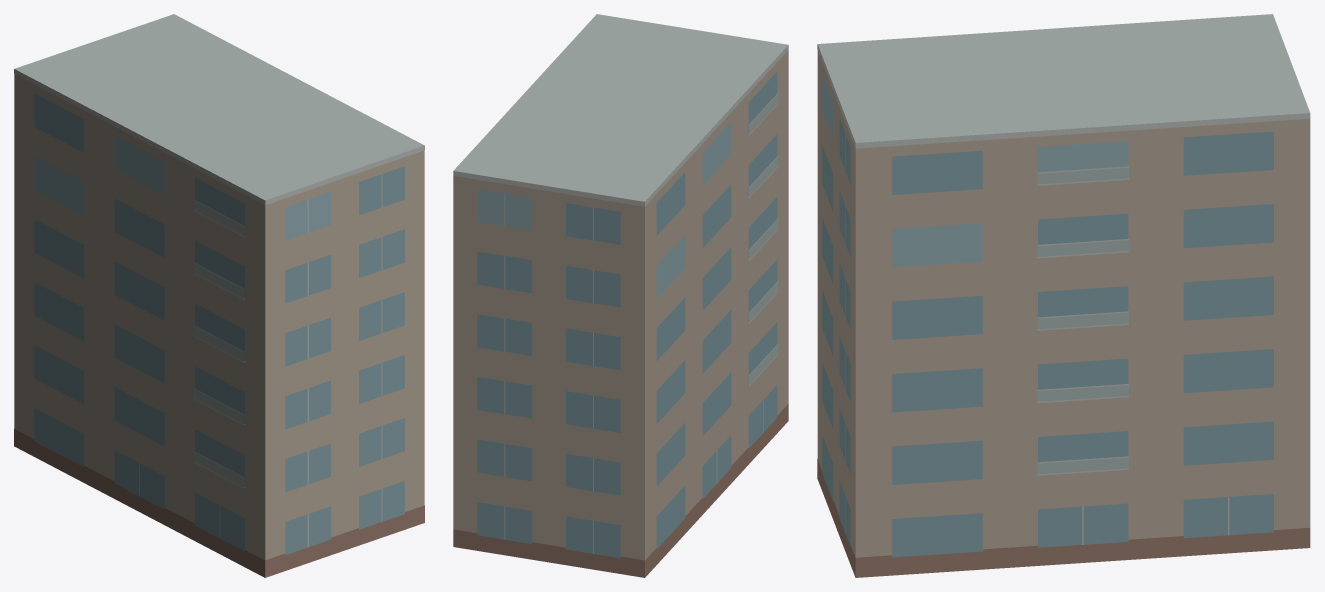
File: survey-upis-32738766.glb
3 views of the same model, side by side, from view 1: azimuth 30°, elevation 25°; view 2: azimuth 150°, elevation 25°; view 3: azimuth 270°, elevation 25° (orthographic). The views are drawn at different scales.
Parts seen in each view (by area): view 1: survey-upis-32738766.tmp; view 2: survey-upis-32738766.tmp; view 3: survey-upis-32738766.tmp.
Boxes of the visible parts, bbox=[...] form: survey-upis-32738766.tmp: bbox=[14, 14, 424, 577]; survey-upis-32738766.tmp: bbox=[453, 14, 788, 577]; survey-upis-32738766.tmp: bbox=[817, 14, 1310, 577].
Bounding box in the file's own units: 11.97 × 18.8 × 19.32.
